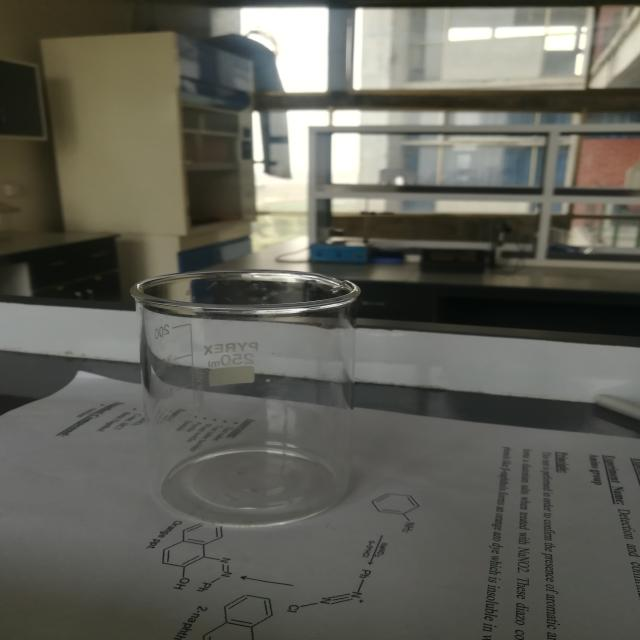Beaker: (106, 231, 406, 541)
